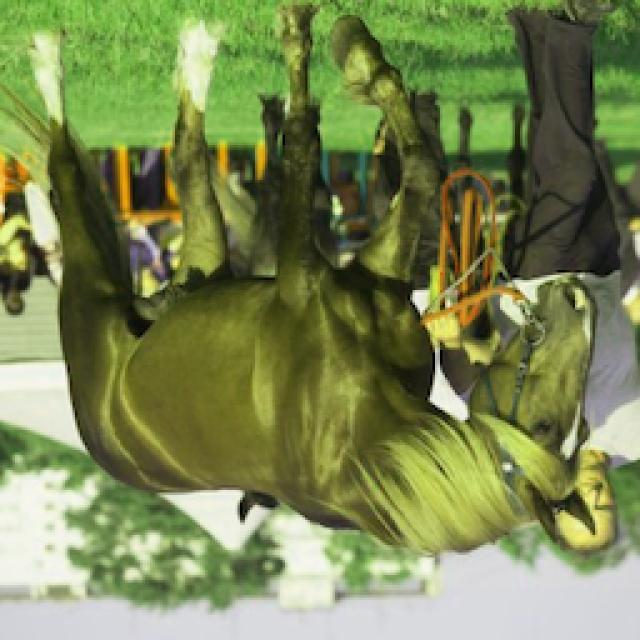Horse: (0, 2, 605, 562)
